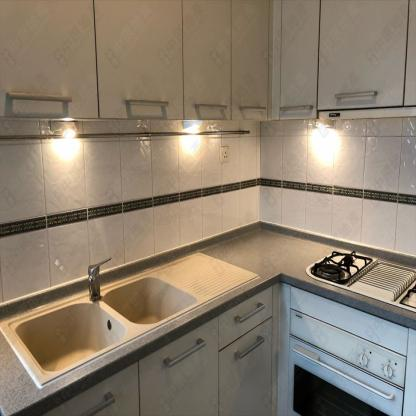Cupboard: (1, 0, 416, 121), (39, 281, 287, 415)
Exhaust Hood: (317, 105, 416, 119)
Faucet: (87, 256, 112, 300)
Oven: (286, 307, 407, 413)
Sink: (1, 269, 203, 389)
Stove: (305, 251, 416, 312)
